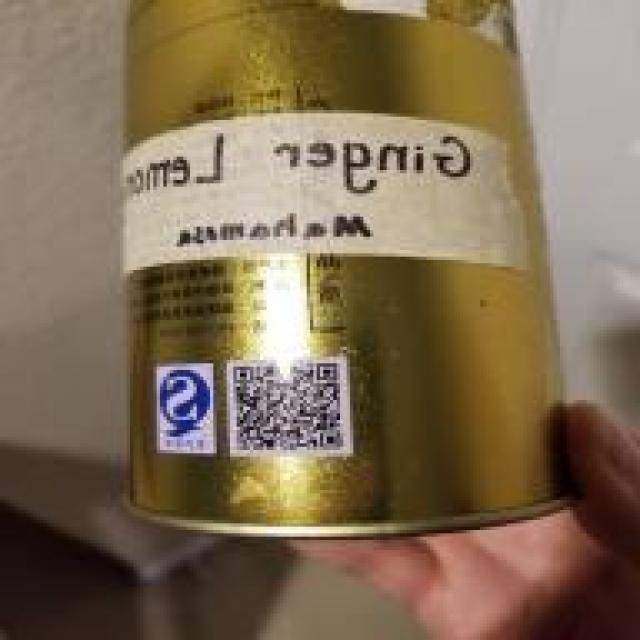qr_code: (232, 362, 343, 450)
